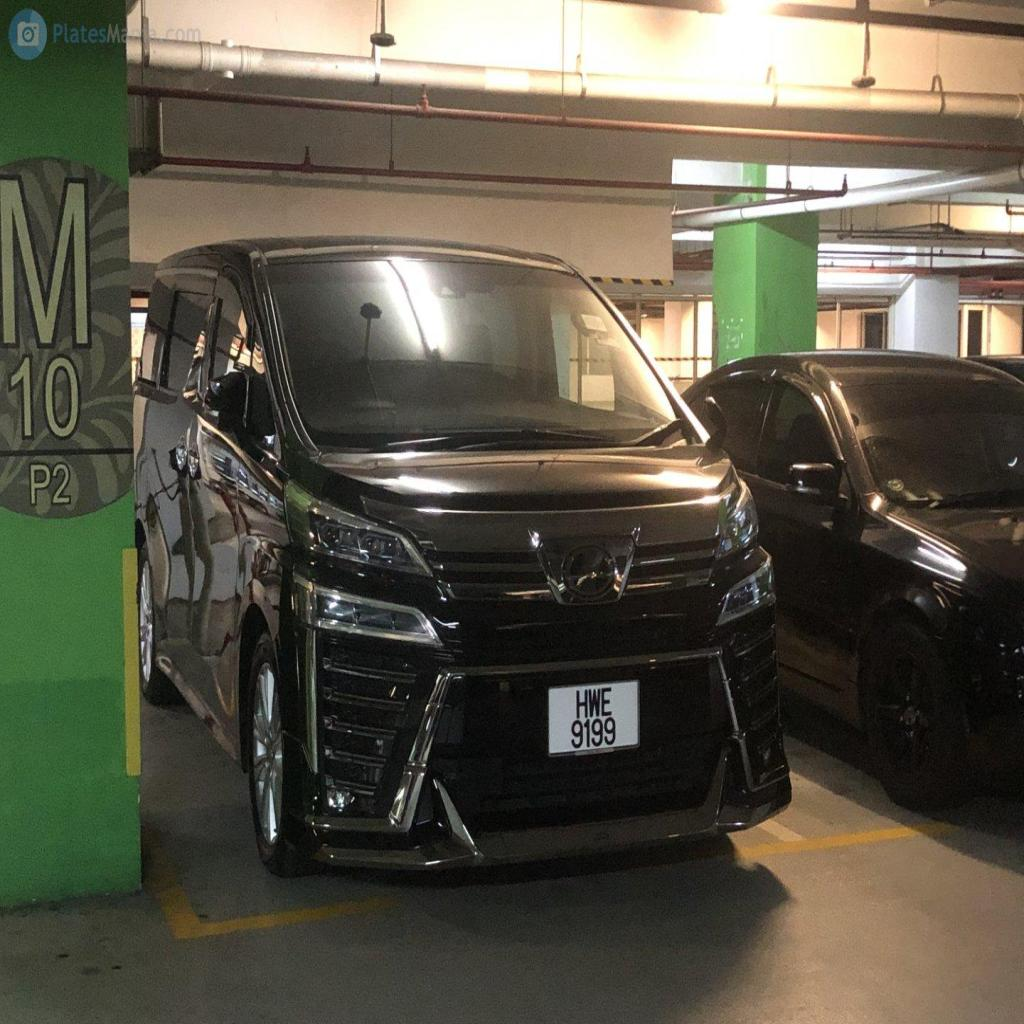car: (136, 238, 790, 871)
car plate: (548, 680, 638, 753)
